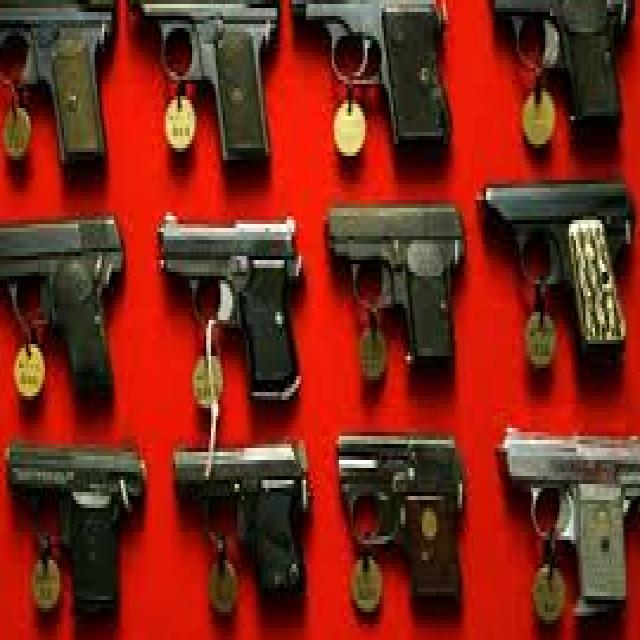gun: (167, 420, 314, 634), (500, 416, 640, 640), (160, 194, 305, 410), (474, 168, 640, 356), (332, 418, 474, 632), (0, 432, 147, 632), (285, 0, 455, 172), (0, 196, 130, 416), (126, 0, 284, 180), (329, 194, 470, 380), (479, 0, 633, 156), (0, 0, 121, 180)
